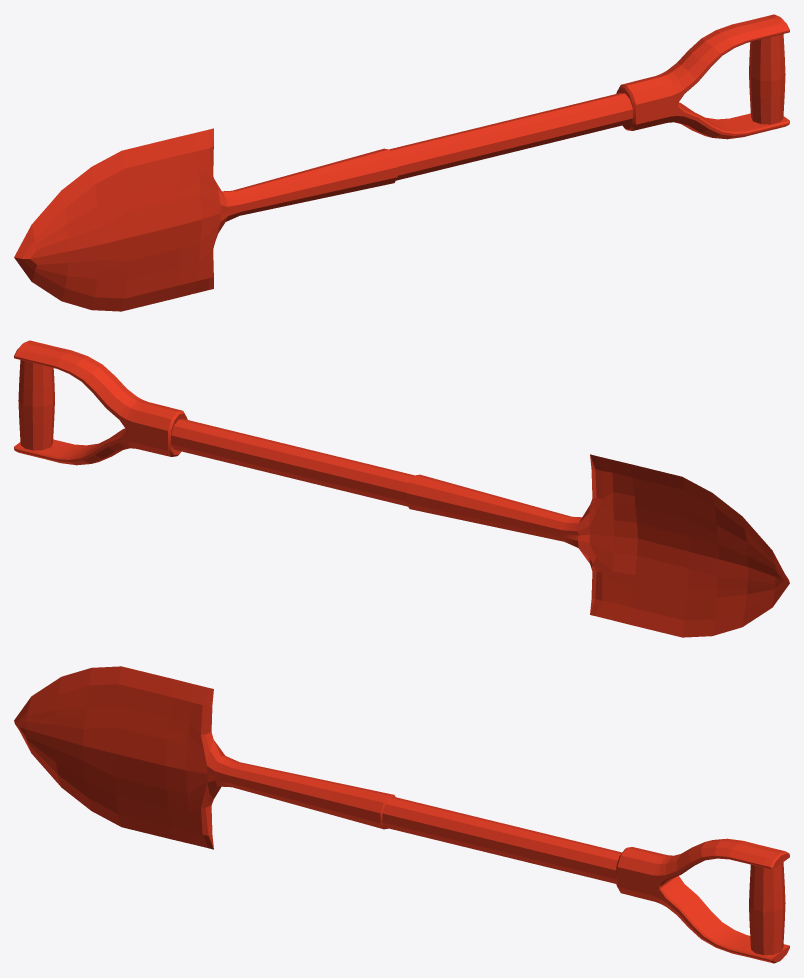
Rendered from PalaNormal.fbx.
3 renders of one model, top to bottom at view 1: azimuth 30°, elevation 25°; view 2: azimuth 150°, elevation 25°; view 3: azimuth 330°, elevation 25°, orthographic.
Parts seen in each view (by area): view 1: final_polySurface4; view 2: final_polySurface4; view 3: final_polySurface4.
Boxes of the visible parts, x1,y1,x2,y2 form: final_polySurface4: [14, 14, 789, 311]; final_polySurface4: [14, 340, 789, 637]; final_polySurface4: [14, 666, 789, 963].
Bounding box in the file's own units: 75.32 × 15.05 × 3.19.
